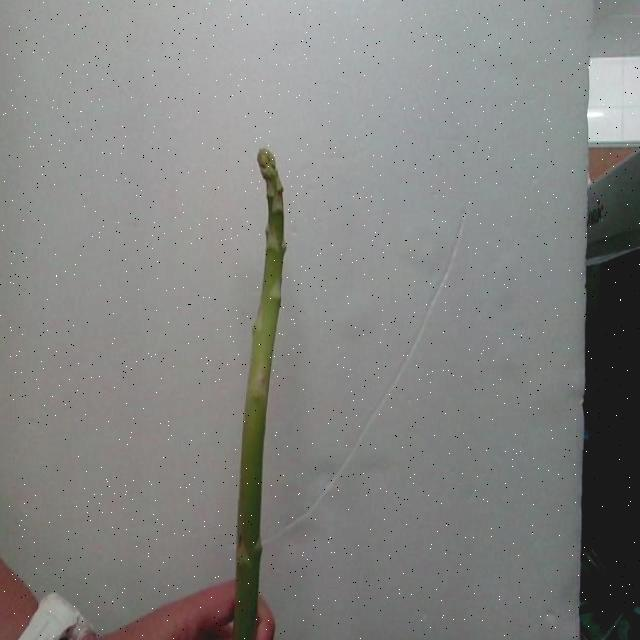aspargus: (233, 151, 287, 640)
